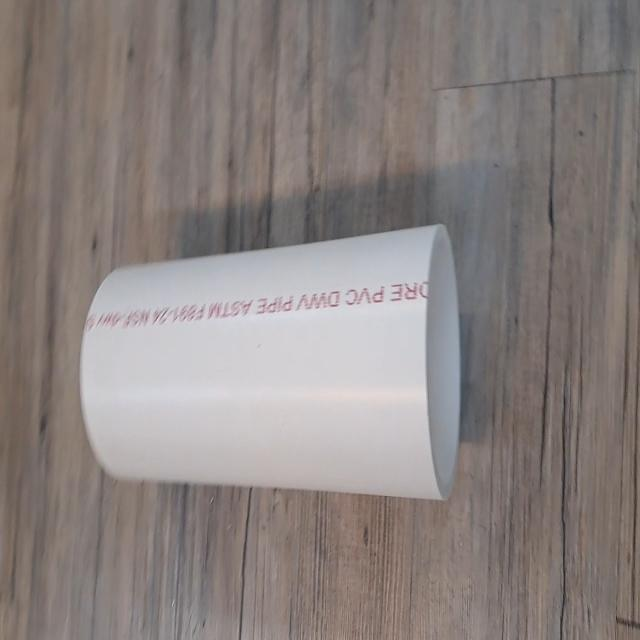CORAL: (73, 218, 471, 518)
